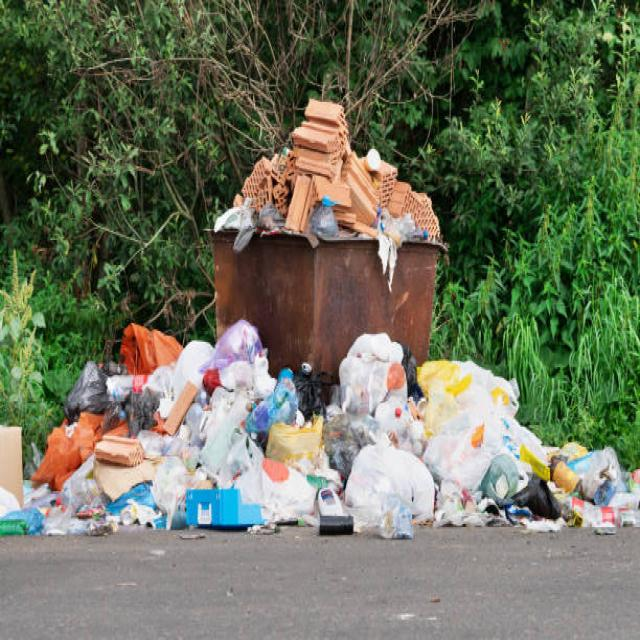plastic: (195, 377, 560, 522)
